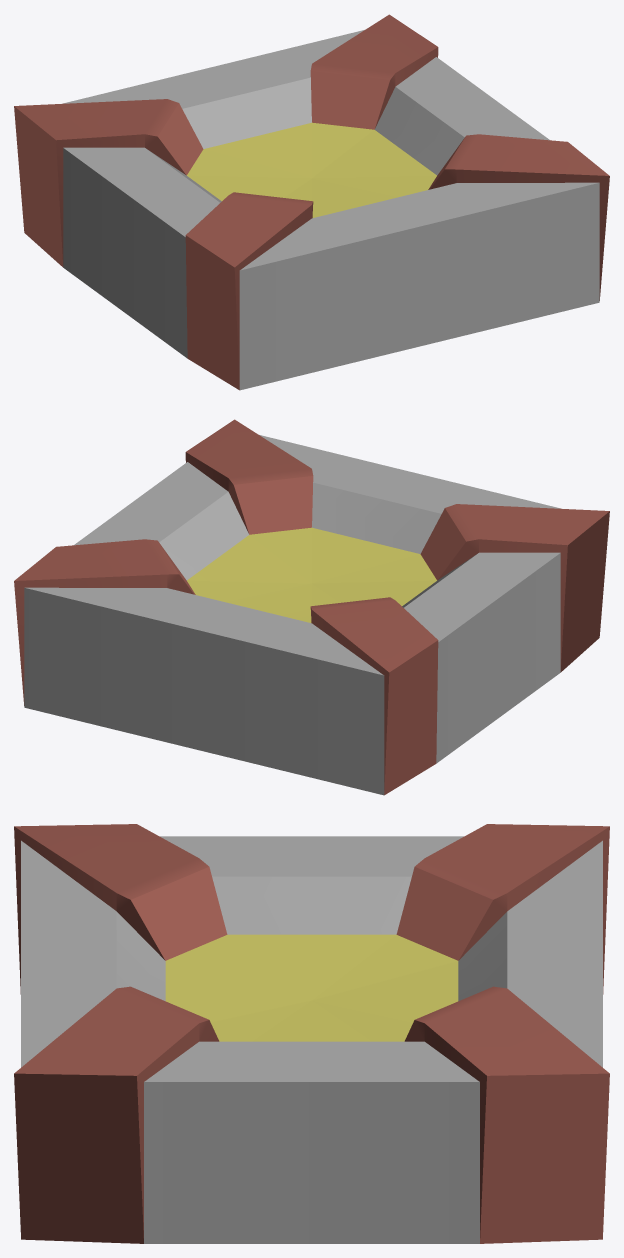
File: cube_aquav2.fbx
The picture shows the model from 3 angles, top to bottom: view 1: azimuth 30°, elevation 25°; view 2: azimuth 150°, elevation 25°; view 3: azimuth 270°, elevation 25°; orthographic projection. The views are drawn at different scales.
Parts seen in each view (by area): view 1: Blop; view 2: Blop; view 3: Blop.
Part boxes in pixels (<box>): Blop: <box>14,14,609,390</box>; Blop: <box>14,419,609,795</box>; Blop: <box>14,824,609,1243</box>.
Size of the model in its own units: 0.9089 by 0.3033 by 0.9089.
